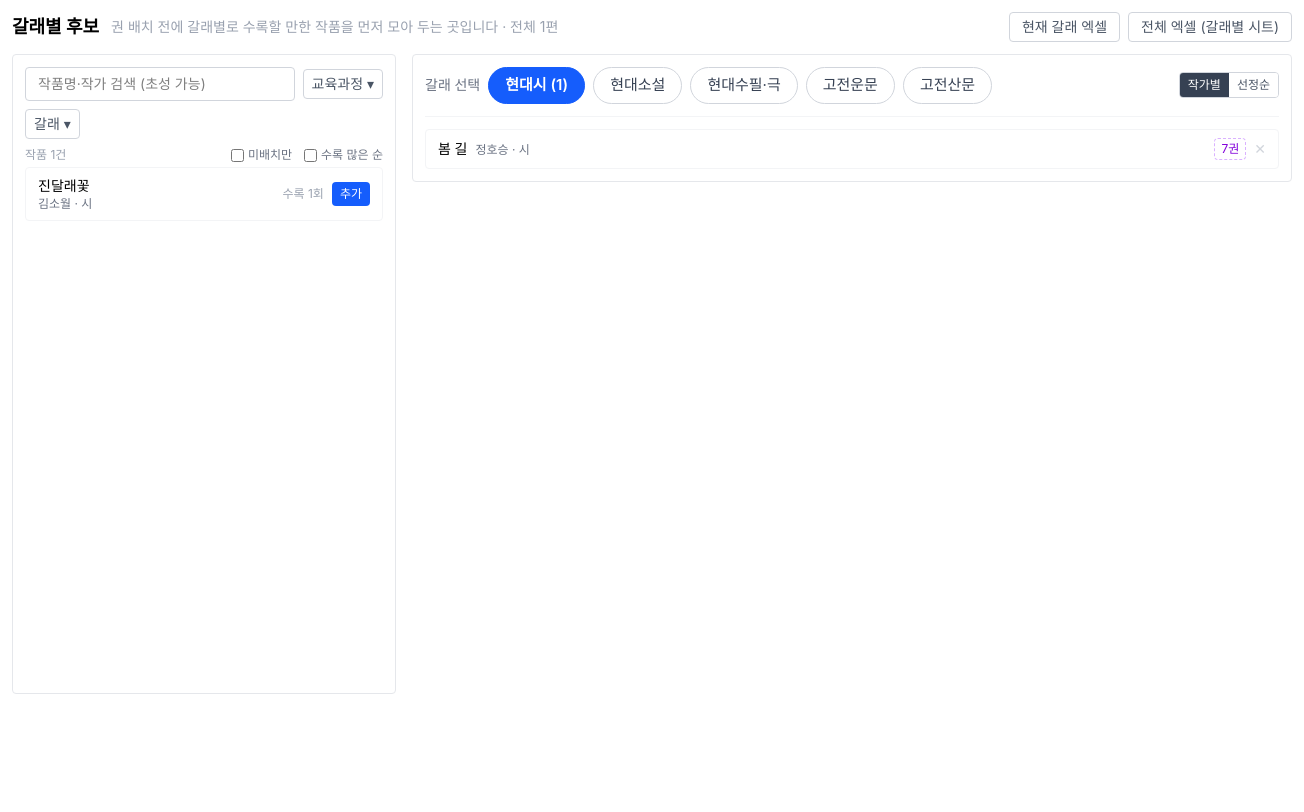
it: '어울리는 권' 칩으로 콘셉트 태그를 편집한다
Click the button named "봄 길 어울리는 권" at (1230, 148), box [1214, 138, 1246, 160]
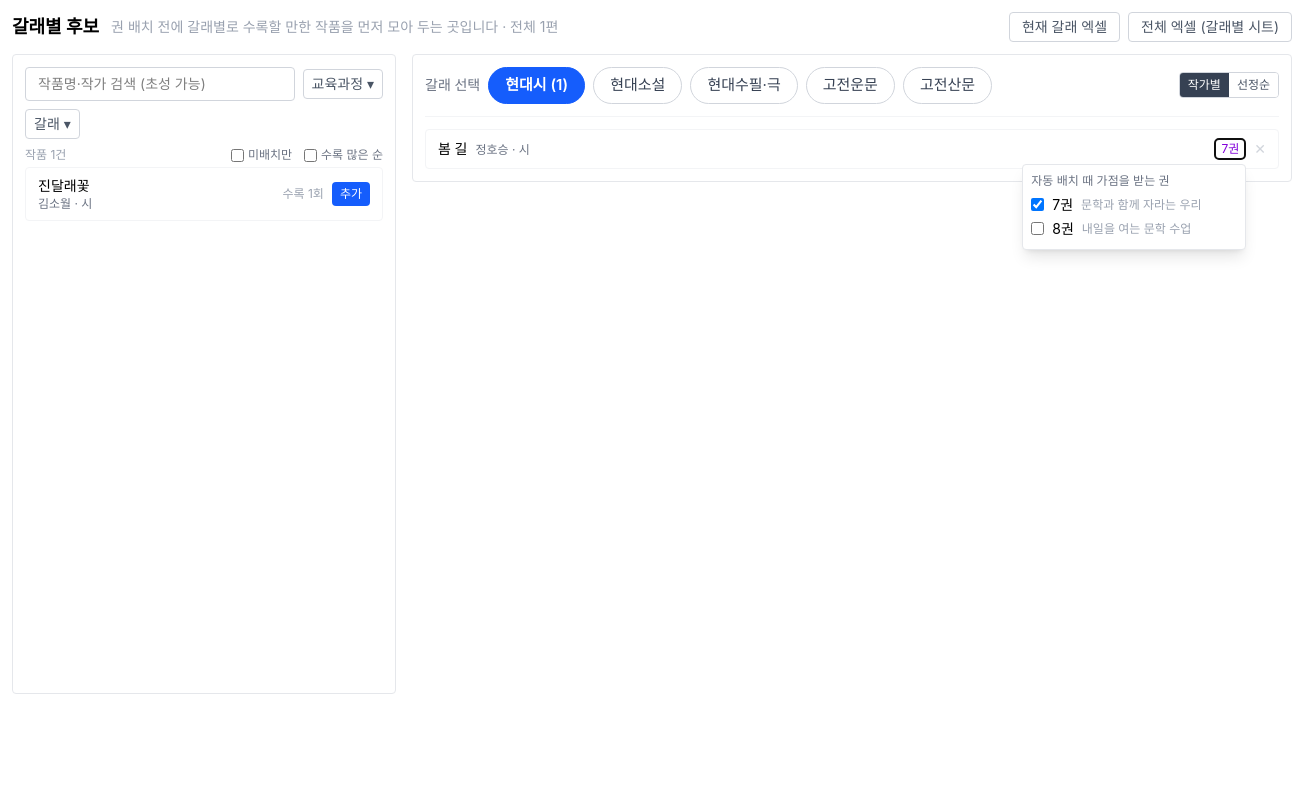
Click the checkbox labelled "8권 내일을 여는 문학 수업" at (1038, 228), box [1031, 222, 1044, 235]
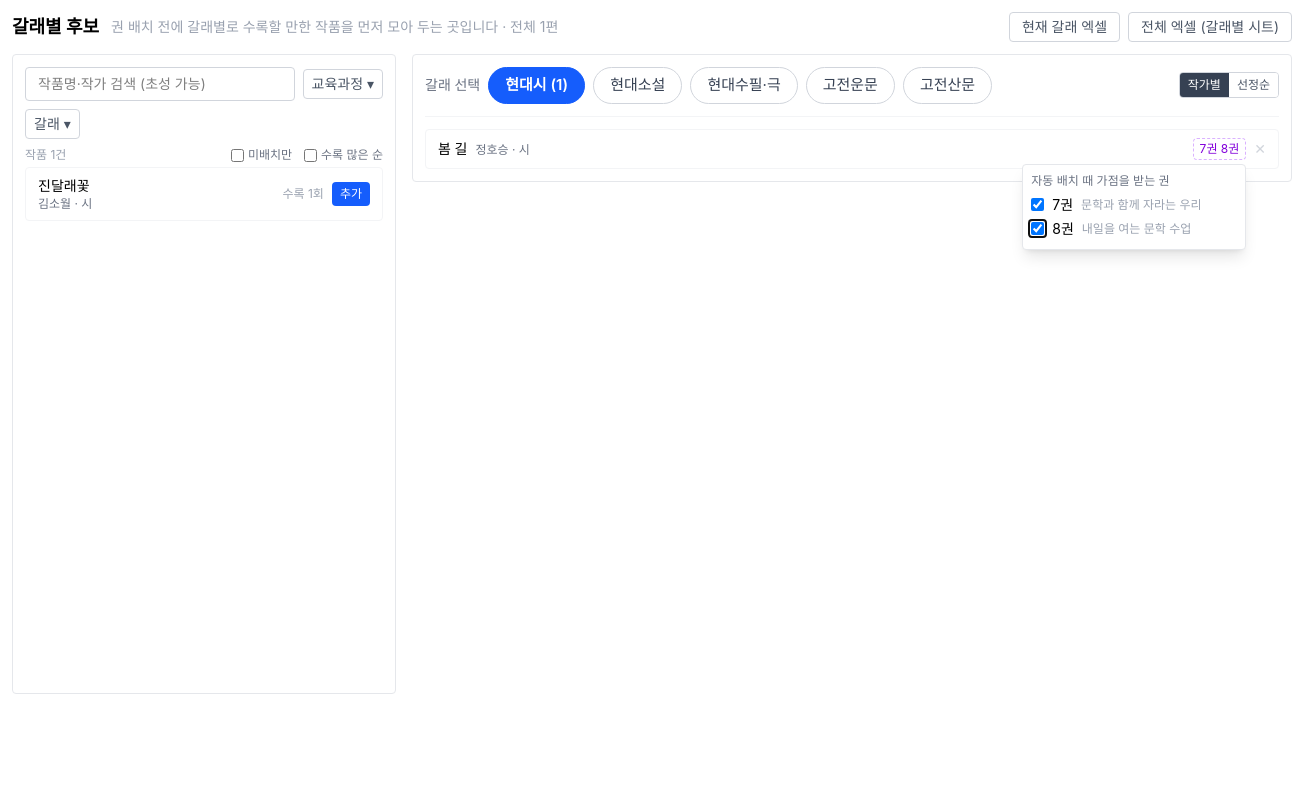
Result: the button named "봄 길 어울리는 권" reads "7권 8권" at [1193, 138, 1246, 160]
